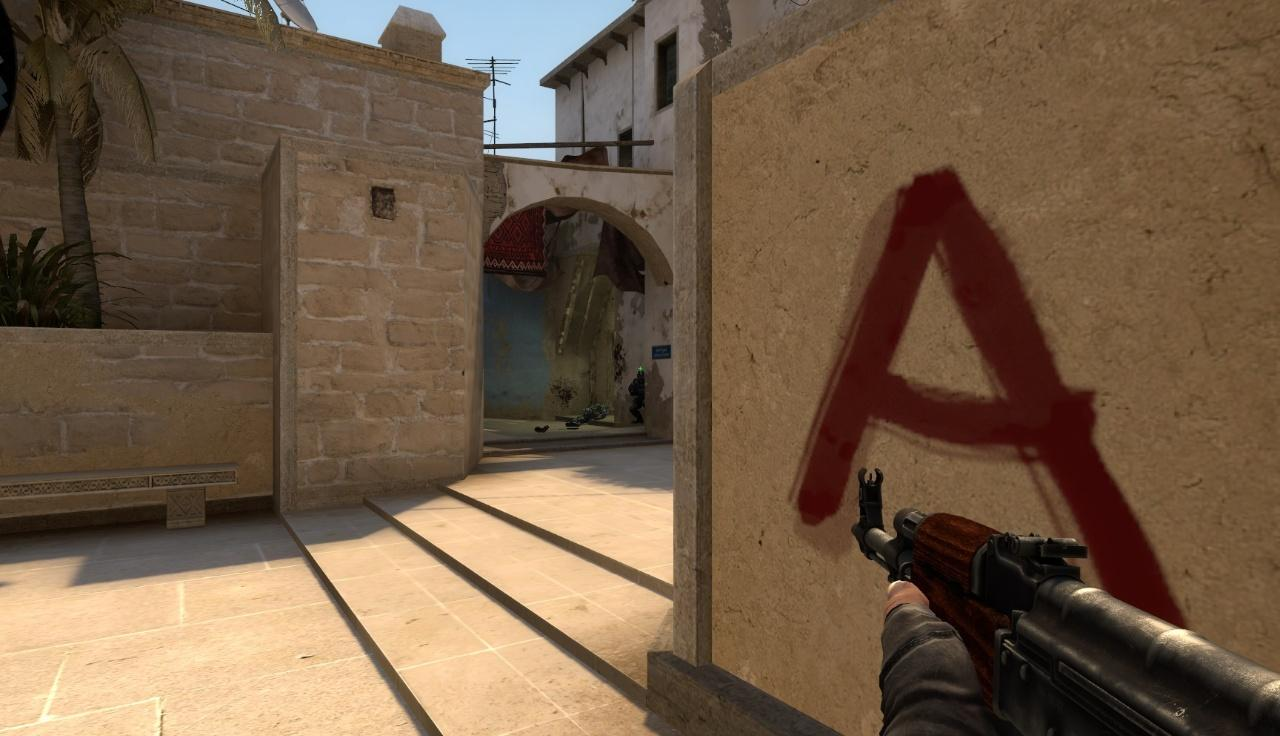ct: (628, 371, 647, 424)
cthead: (636, 371, 645, 381)
rifle: (857, 468, 1280, 734)
